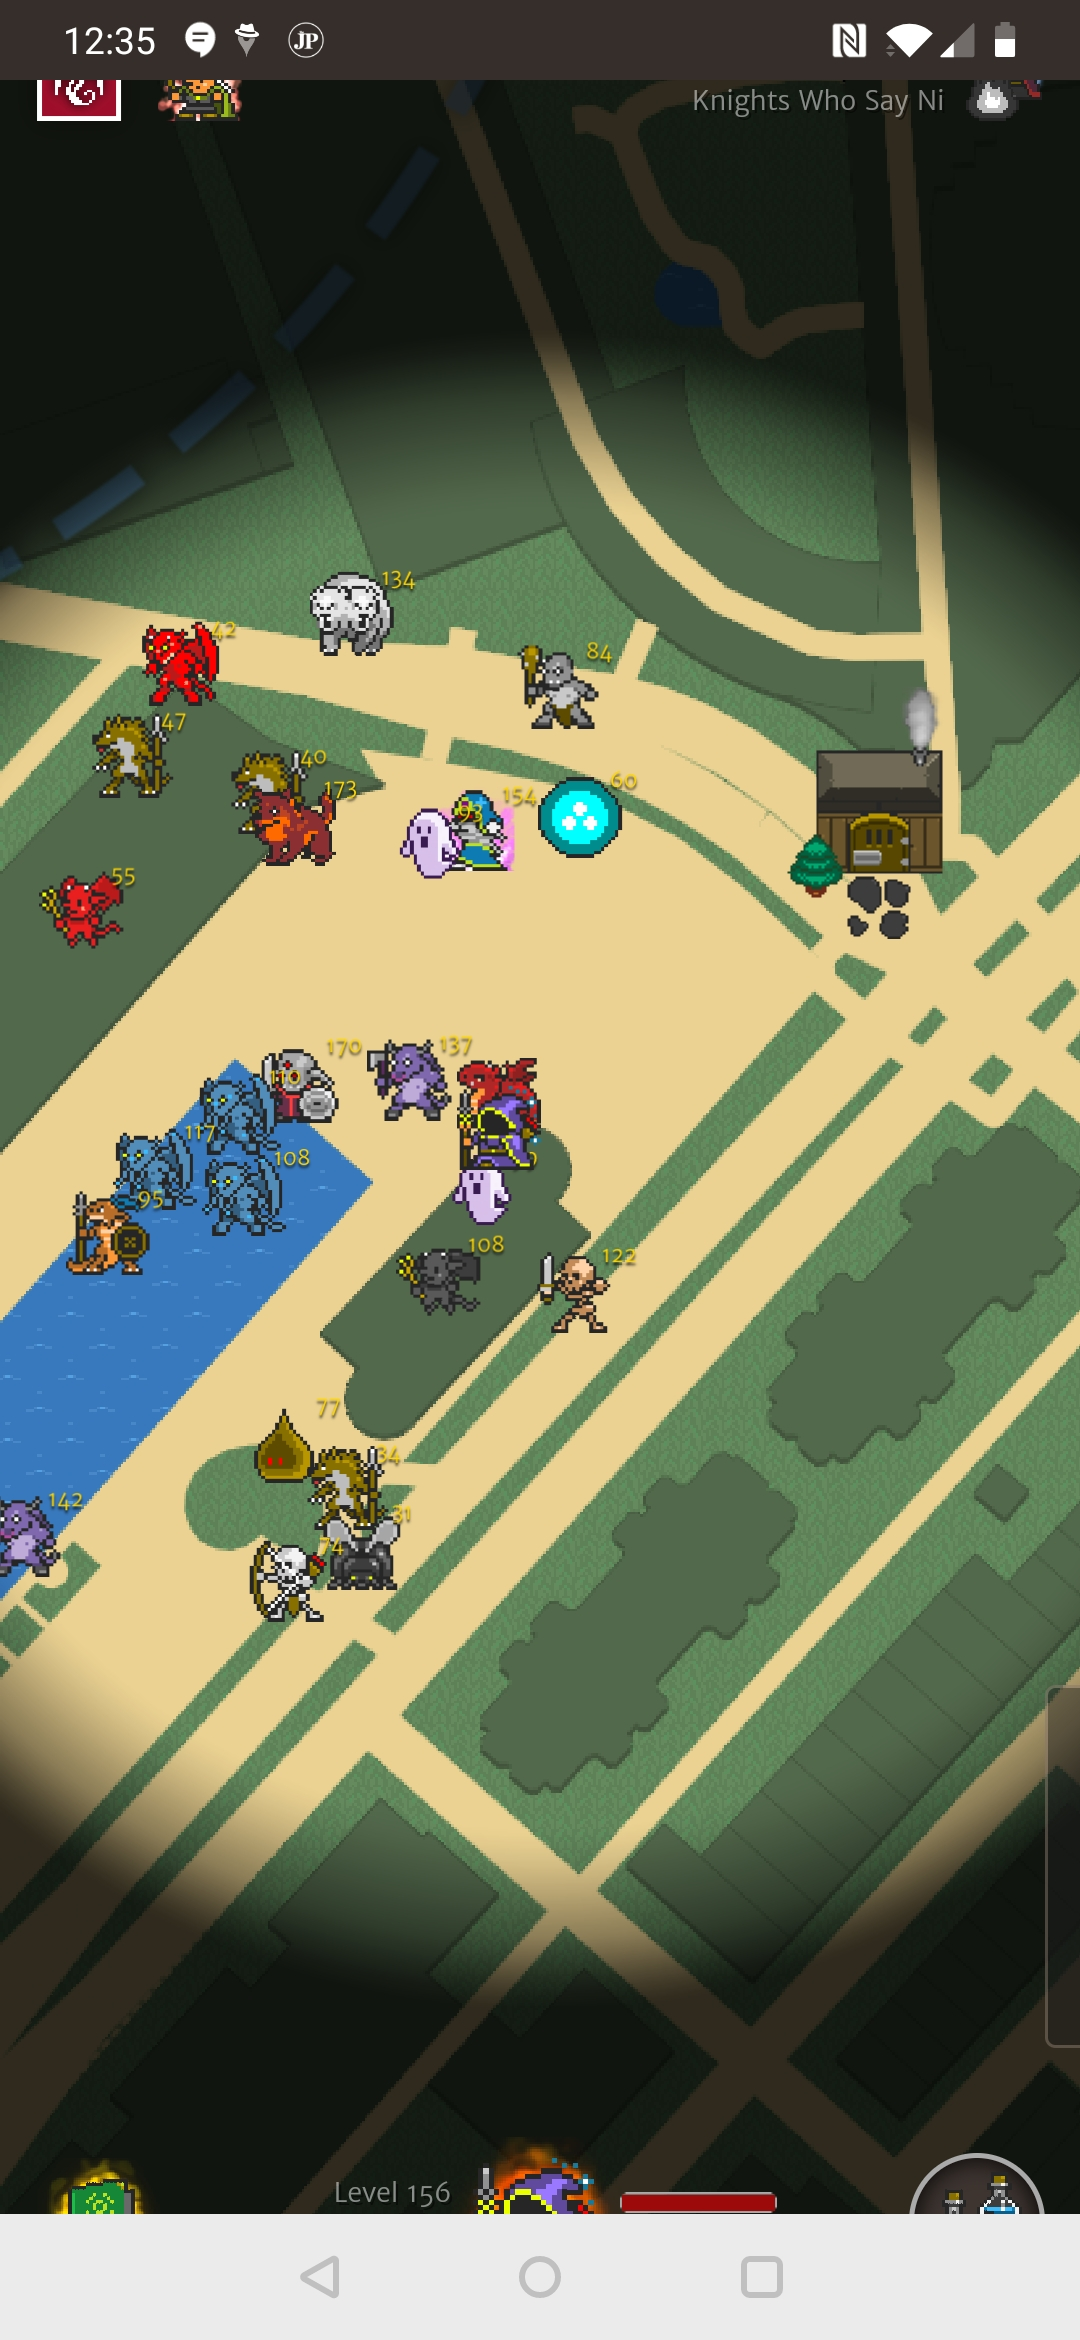monster: (521, 1243, 641, 1345), (77, 709, 187, 820), (295, 571, 418, 668), (249, 773, 367, 873), (510, 640, 618, 743), (395, 1232, 508, 1330), (372, 1027, 477, 1130), (244, 1530, 349, 1632), (536, 768, 644, 866), (138, 622, 238, 725), (226, 748, 333, 845), (444, 778, 538, 886), (38, 868, 138, 966), (115, 1122, 218, 1217), (208, 1150, 313, 1240), (267, 1040, 369, 1132), (249, 1402, 344, 1494), (390, 794, 477, 886), (192, 1068, 285, 1155), (313, 1445, 413, 1522), (69, 1186, 159, 1271), (331, 1504, 418, 1586), (1, 1491, 85, 1574)
player: (451, 1099, 533, 1184)
